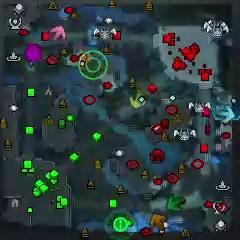Other: (113, 216, 128, 232)
p3: (24, 43, 43, 62)
x1: (50, 25, 65, 42)
x2: (128, 90, 144, 110)
x3: (217, 106, 235, 123)
x4: (166, 195, 183, 211)
x5: (150, 213, 165, 231)
